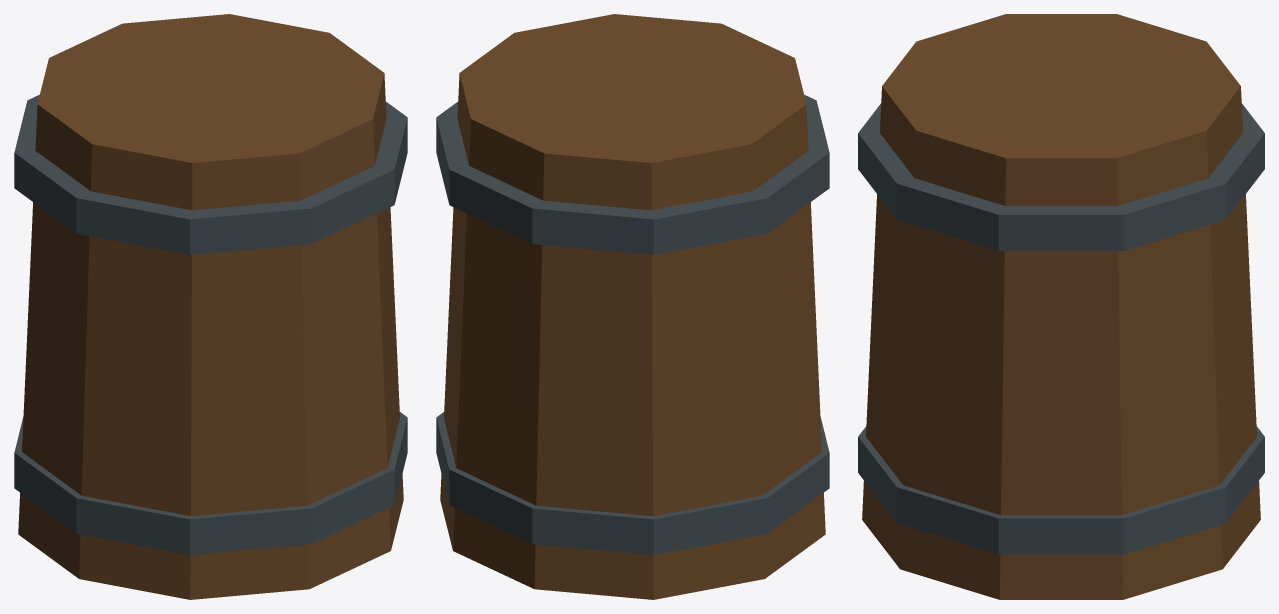
Rendered from barrel.glb.
The picture shows the model from 3 angles, left to right: view 1: azimuth 30°, elevation 25°; view 2: azimuth 150°, elevation 25°; view 3: azimuth 270°, elevation 25°; orthographic projection.
Visible parts, largest first — view 1: barrel; view 2: barrel; view 3: barrel.
Part boxes in pixels (x1,y1,x2,y2): barrel: [14, 14, 407, 599]; barrel: [436, 14, 829, 599]; barrel: [858, 14, 1264, 599].
Bounding box in the file's own units: 0.9701 × 1.2 × 1.02.
